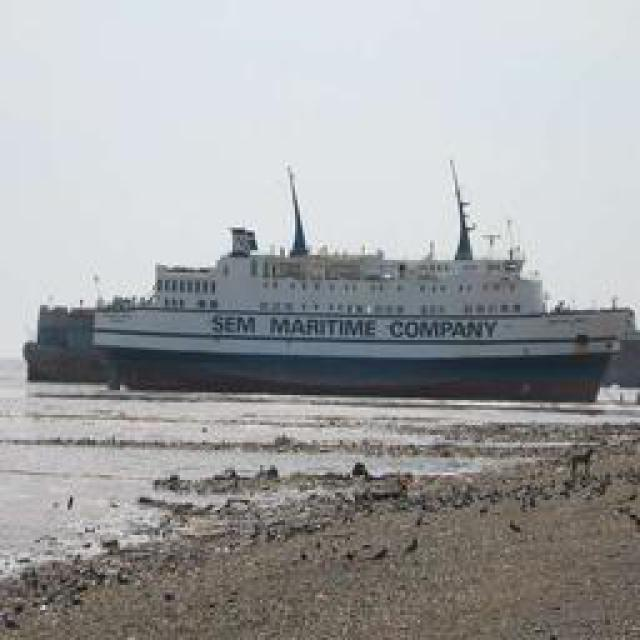Ship: (15, 149, 636, 413)
